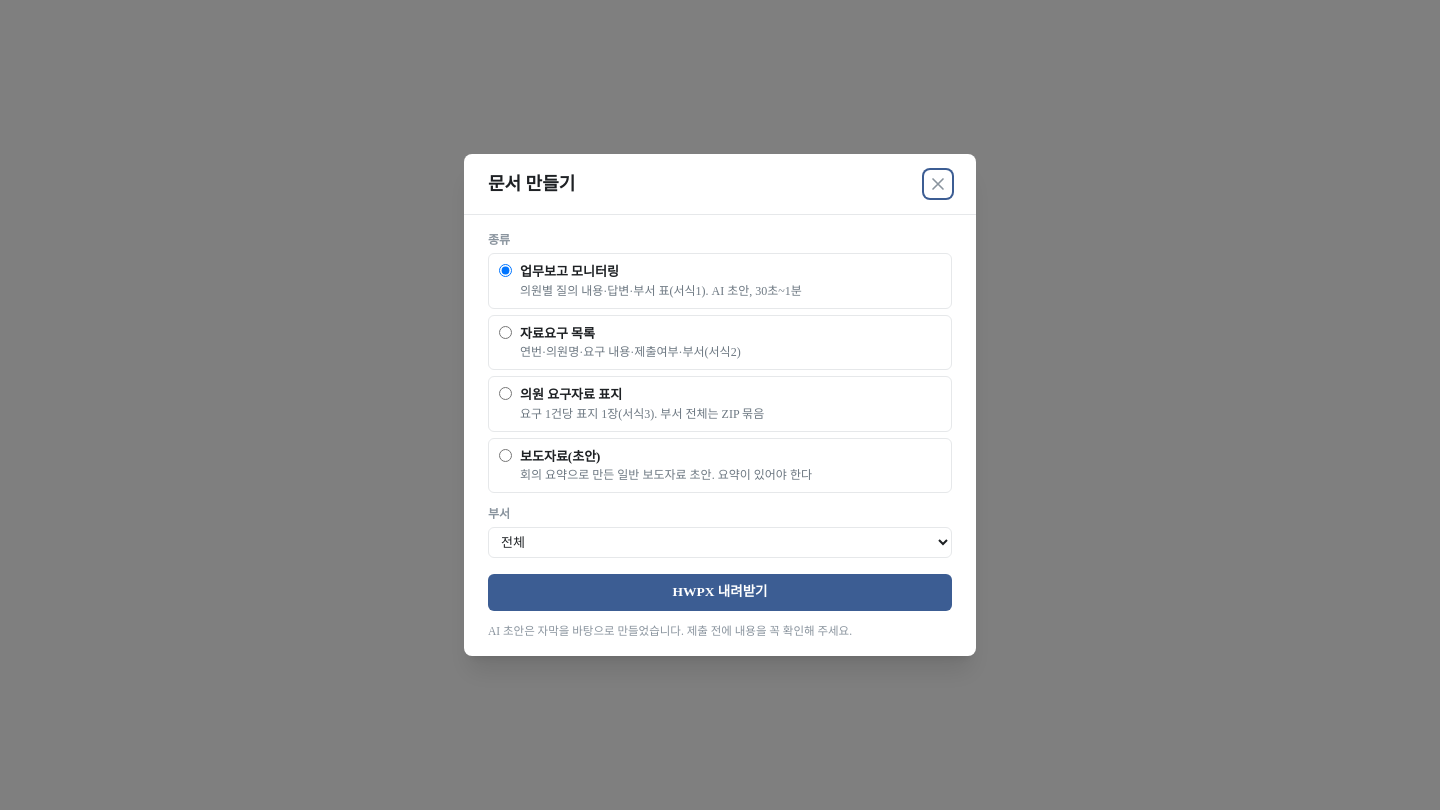
it: MeetingDocumentsModal › downloads the chosen kind for the chosen department
Expected: the text "업무보고 모니터링" is shown, [520,264,619,279]
Select "인사과" in the dropdown labelled "부서". click: (720, 543)
box: [488,527,952,558]
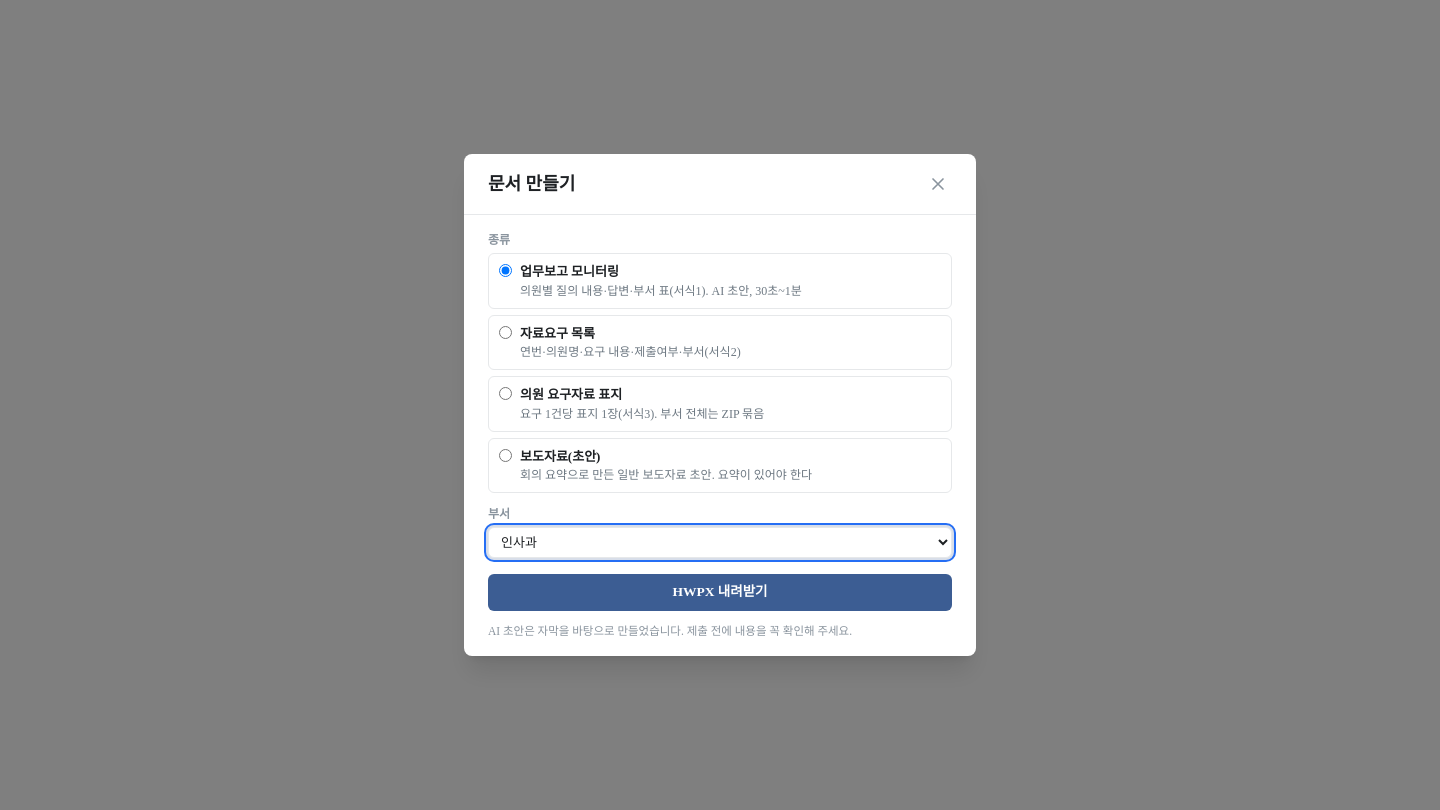
Click the button with test id "meeting-documents-make". click: click(720, 592)
box: [488,574,952,611]
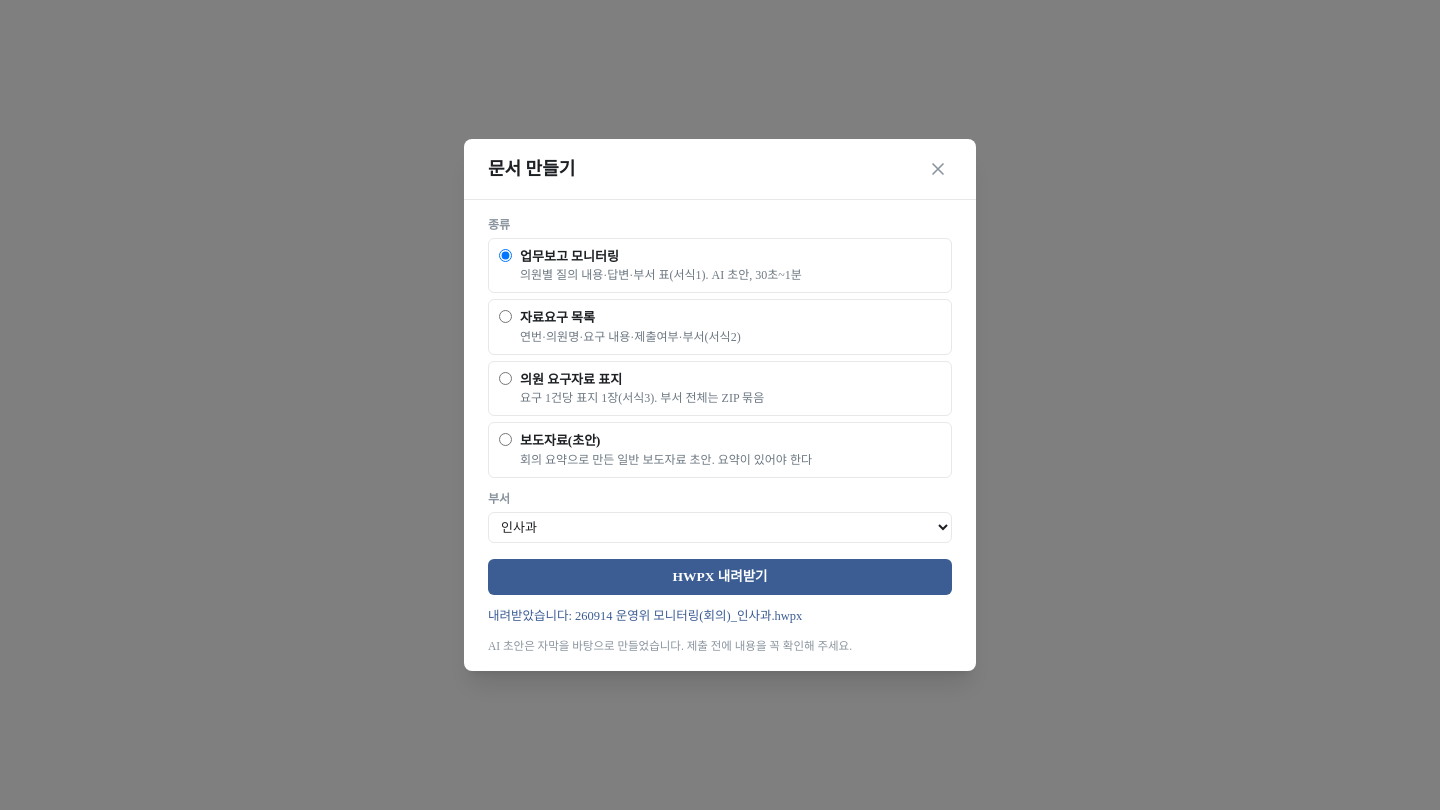
Expected: the message shows "내려받았습니다", [488,609,802,623]
